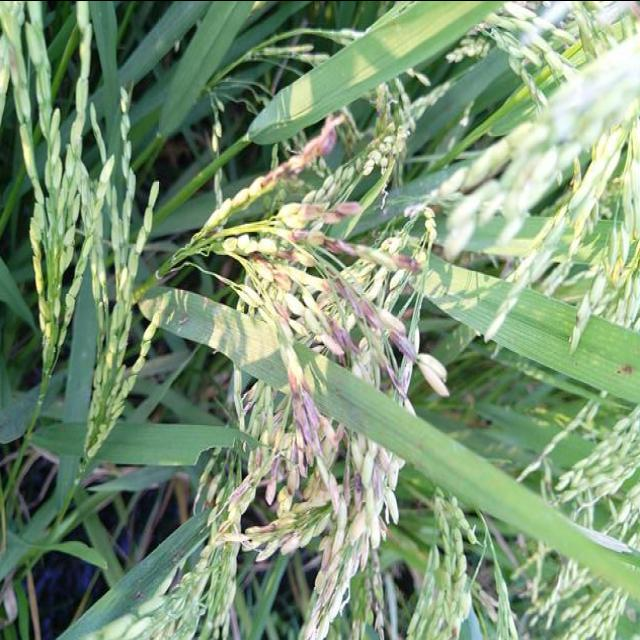Panicle Blight: (304, 274, 415, 358), (259, 113, 344, 188), (293, 228, 420, 270), (334, 554, 384, 640), (335, 433, 381, 518), (241, 516, 312, 558), (240, 248, 298, 297), (274, 200, 361, 230), (288, 366, 320, 447), (257, 442, 289, 506), (325, 316, 358, 351), (381, 358, 406, 398), (279, 305, 294, 323), (251, 450, 262, 464)
